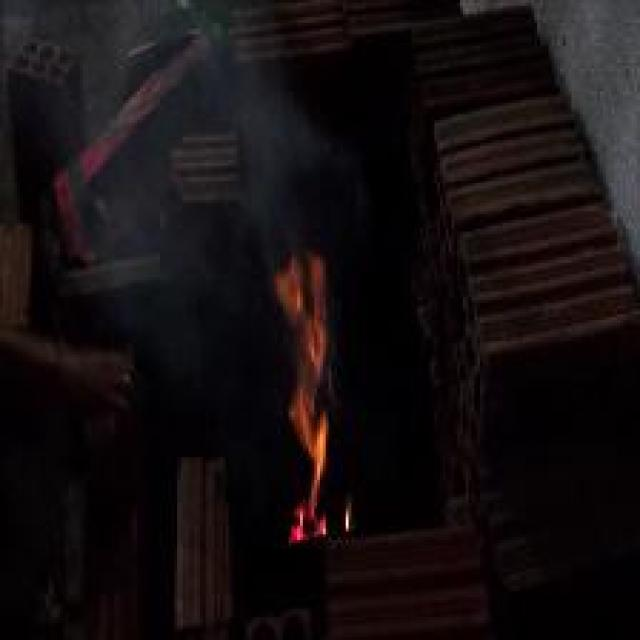Fire: (273, 254, 353, 537)
